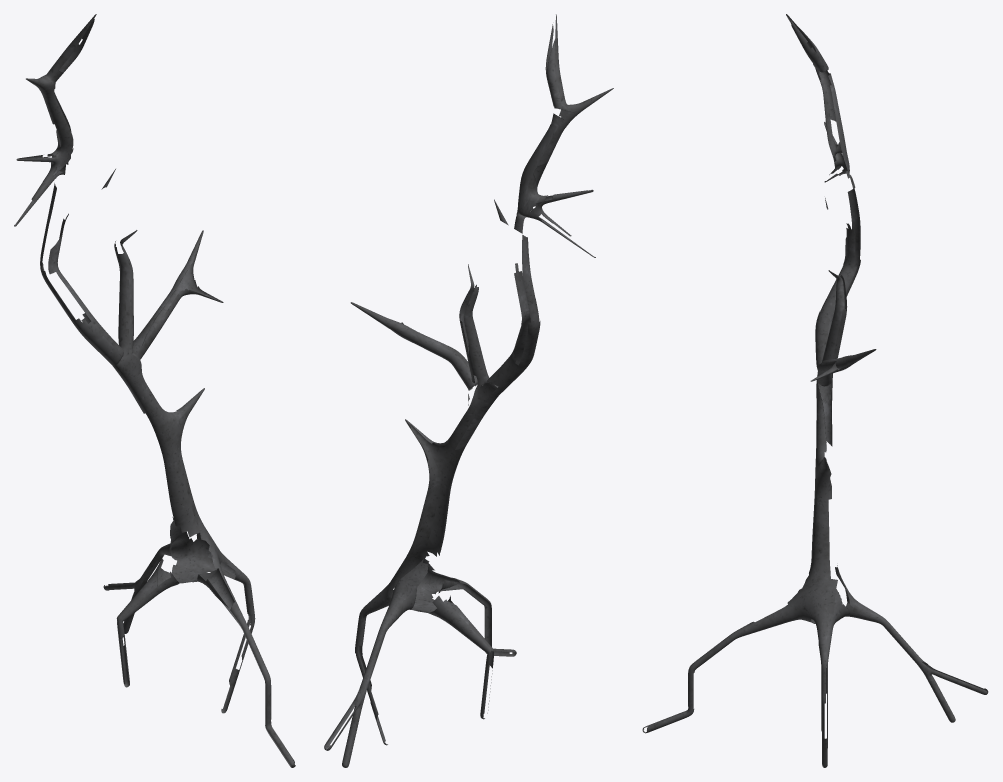
The model's file is tree_06.fbx.
3 views of the same model, side by side, from view 1: azimuth 30°, elevation 25°; view 2: azimuth 150°, elevation 25°; view 3: azimuth 270°, elevation 25° (orthographic). The views are drawn at different scales.
Parts seen in each view (by area): view 1: tree_06; view 2: tree_06; view 3: tree_06.
Boxes of the visible parts, left/top/right/bottom form: tree_06: left=14, top=14, right=295, bottom=767; tree_06: left=324, top=14, right=613, bottom=767; tree_06: left=642, top=14, right=988, bottom=767.
Size of the model in its own units: 333 by 982 by 448.
